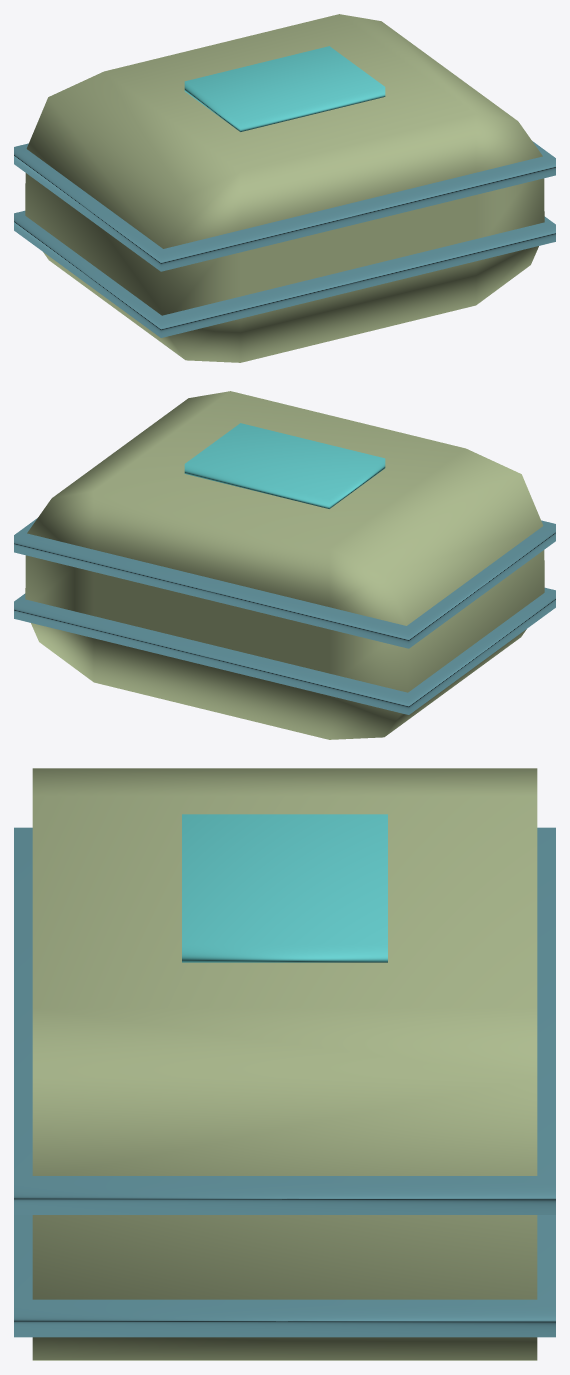
File: crate 1.fbx
3 renders of one model, top to bottom at view 1: azimuth 30°, elevation 25°; view 2: azimuth 150°, elevation 25°; view 3: azimuth 270°, elevation 25°, orthographic. The views are drawn at different scales.
Visible parts, largest first — view 1: PM3D_Cube3D1_167; view 2: PM3D_Cube3D1_167; view 3: PM3D_Cube3D1_167.
Boxes of the visible parts, x1,y1,x2,y2 form: PM3D_Cube3D1_167: (14,14,555,362); PM3D_Cube3D1_167: (14,391,555,739); PM3D_Cube3D1_167: (14,768,555,1360).
Size of the model in its own units: 83.84 by 40.8 by 54.05.
